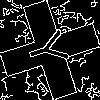Y: (25, 25, 79, 71)
